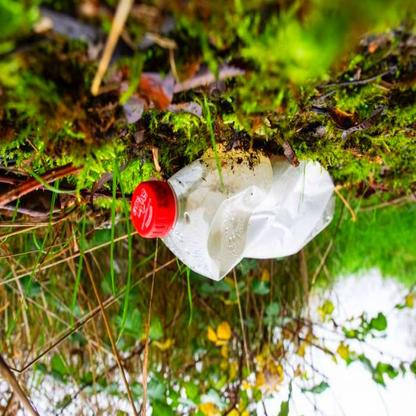plastic bottle: (126, 148, 335, 281)
